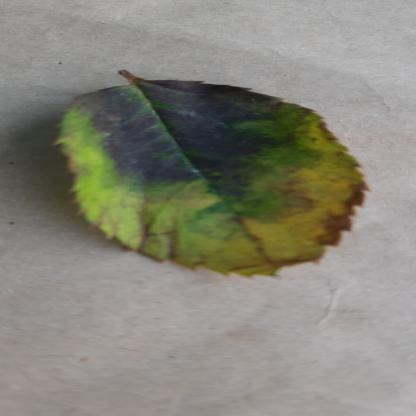downy-mildew: (47, 79, 383, 279)
